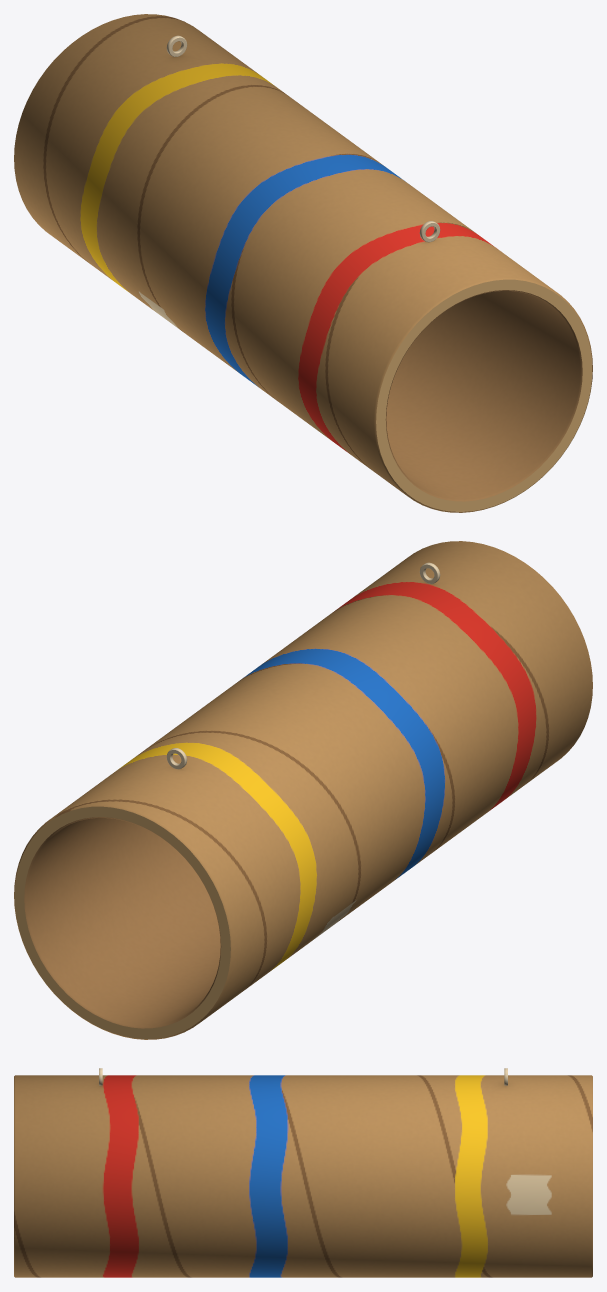
Rendered from cardboard-tube.fbx.
3 views of the same model, one above another, from view 1: azimuth 30°, elevation 25°; view 2: azimuth 150°, elevation 25°; view 3: azimuth 270°, elevation 25° (orthographic). The views are drawn at different scales.
Visible parts, largest first — view 1: cardboard-tube; view 2: cardboard-tube; view 3: cardboard-tube.
Part boxes in pixels (x1,y1,x2,y2): cardboard-tube: (14,14,592,512); cardboard-tube: (14,541,592,1039); cardboard-tube: (14,1068,592,1277).
Size of the model in its own units: 7000 by 7600 by 20000.
1 material, 1 textured.
